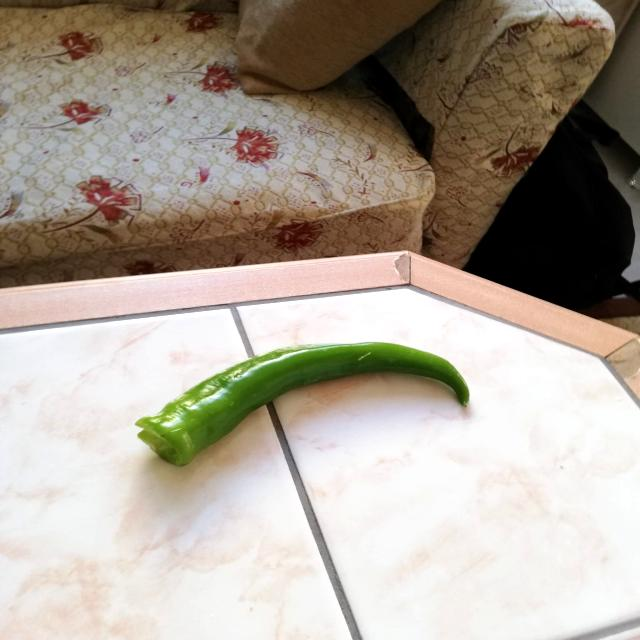green pepper: (133, 336, 475, 473)
